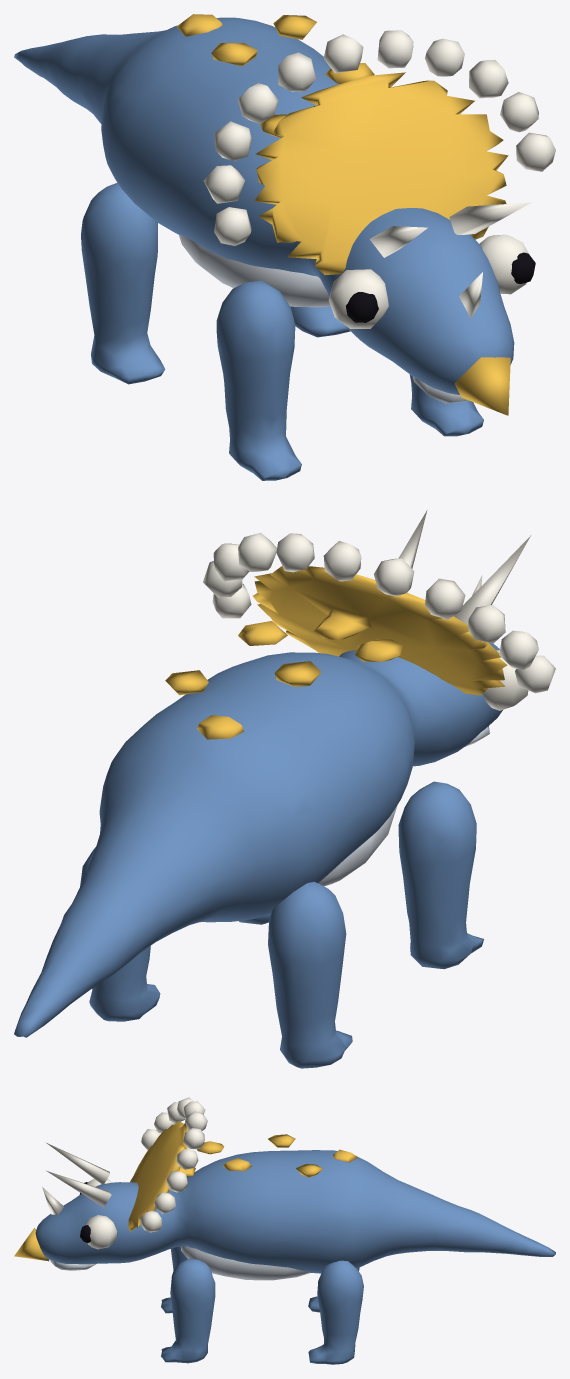
Rendered from Dino_Triceratops.fbx.
3 renders of one model, top to bottom at view 1: azimuth 30°, elevation 25°; view 2: azimuth 150°, elevation 25°; view 3: azimuth 270°, elevation 25°, orthographic. The views are drawn at different scales.
Parts seen in each view (by area): view 1: Body, Accent, EyeWhite, LegFL, LegBL, Belly, LegFR, Pupil, LegBR; view 2: Body, Accent, EyeWhite, LegFL, LegBL, LegBR, Belly; view 3: Body, EyeWhite, Accent, LegFR, LegBR, Belly, LegFL.
Boxes of the visible parts, bbox=[...] form: Body: bbox=[14, 17, 514, 394]; Accent: bbox=[176, 14, 510, 415]; EyeWhite: bbox=[203, 30, 555, 328]; LegFL: bbox=[216, 280, 301, 480]; LegBL: bbox=[81, 183, 165, 384]; Belly: bbox=[179, 234, 468, 403]; LegFR: bbox=[409, 374, 483, 436]; Pupil: bbox=[346, 252, 535, 322]; LegBR: bbox=[290, 306, 350, 337]; Body: bbox=[14, 643, 502, 1037]; Accent: bbox=[165, 566, 507, 739]; EyeWhite: bbox=[203, 510, 555, 710]; LegFL: bbox=[398, 781, 483, 969]; LegBL: bbox=[268, 881, 352, 1068]; LegBR: bbox=[80, 846, 160, 1021]; Belly: bbox=[318, 726, 489, 886]; Body: bbox=[35, 1150, 555, 1273]; EyeWhite: bbox=[42, 1097, 207, 1249]; Accent: bbox=[14, 1121, 357, 1261]; LegFR: bbox=[161, 1258, 215, 1363]; LegBR: bbox=[308, 1260, 363, 1364]; Belly: bbox=[50, 1246, 309, 1280]; LegFL: bbox=[161, 1246, 187, 1313].
Bounding box in the file's own units: 3.14 × 3.58 × 7.9.
